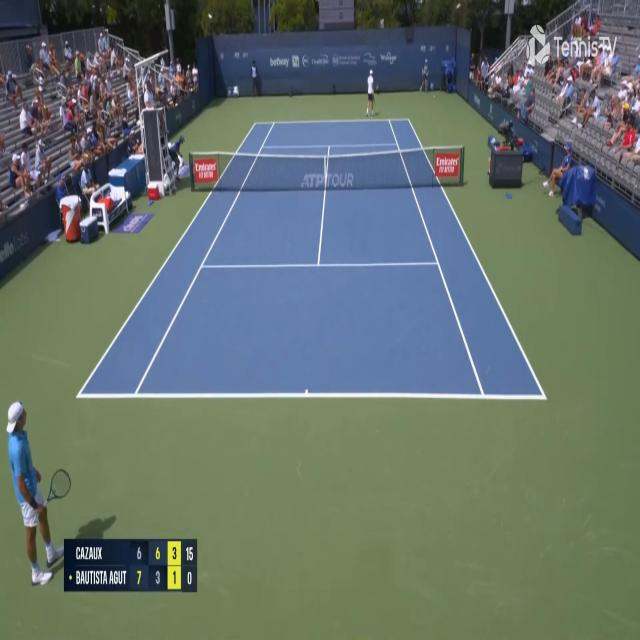tennis-player: (8, 396, 73, 588), (364, 68, 380, 117)
